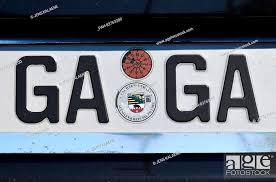A: (66, 50, 111, 127), (218, 52, 260, 126)
G: (163, 51, 210, 123), (14, 53, 59, 125)
